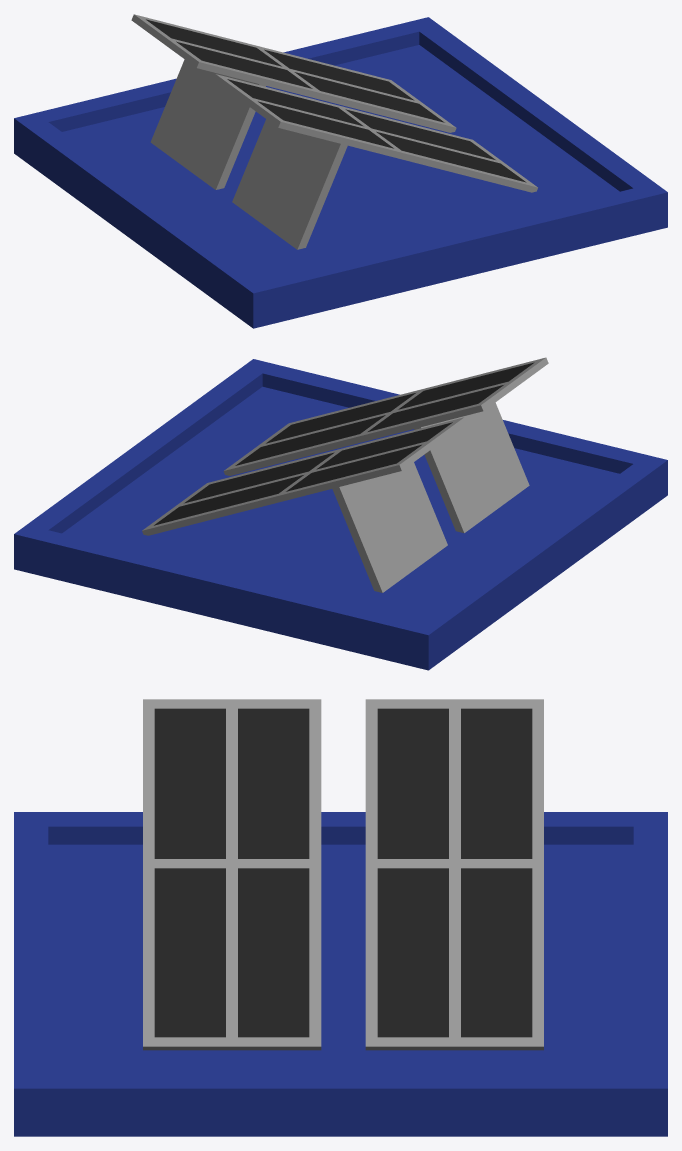
Rendered from roof2.fbx.
3 views of the same model, one above another, from view 1: azimuth 30°, elevation 25°; view 2: azimuth 150°, elevation 25°; view 3: azimuth 270°, elevation 25° (orthographic). The views are drawn at different scales.
Visible parts, largest first — view 1: Cube, Cube.001; view 2: Cube, Cube.001; view 3: Cube, Cube.001.
Boxes of the visible parts, x1=… form: Cube: x1=14, y1=17, x2=667, y2=328; Cube.001: x1=131, y1=14, x2=537, y2=249; Cube: x1=14, y1=359, x2=667, y2=670; Cube.001: x1=142, y1=357, x2=548, y2=592; Cube: x1=14, y1=812, x2=667, y2=1136; Cube.001: x1=143, y1=699, x2=543, y2=1050.
Size of the model in its own units: 200 by 71.1 by 200.
